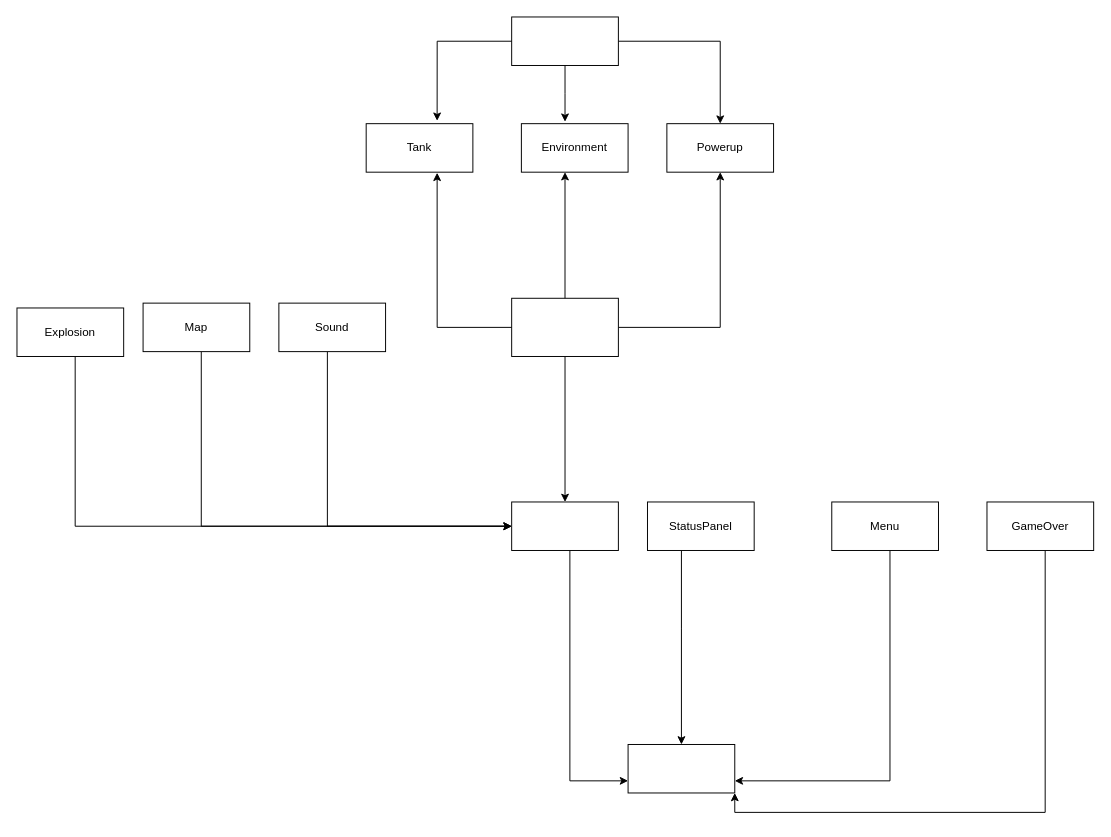
This 1111x837 diagram has some shape labels left out. Each missing label, with the centre of its shape:
"CheckingCollision" goes at (564,326).
"Game Object" goes at (564,40).
"GameFrame" goes at (681,768).
"GamePanel" goes at (564,525).
